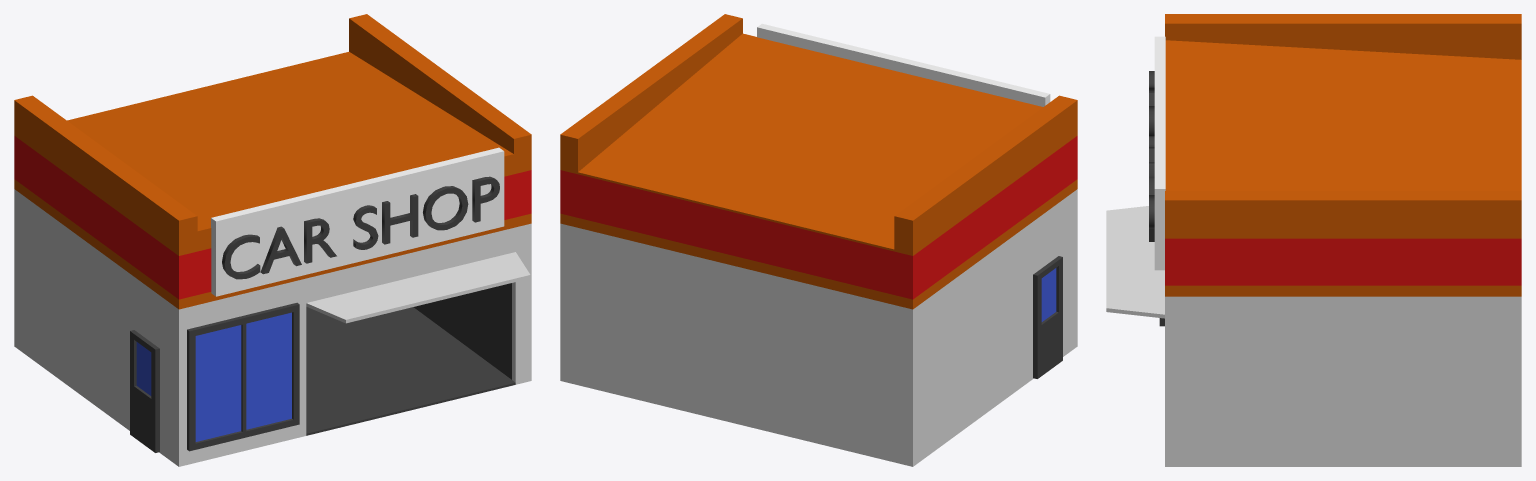
File: CarShop.fbx
3 renders of one model, left to right at view 1: azimuth 30°, elevation 25°; view 2: azimuth 150°, elevation 25°; view 3: azimuth 270°, elevation 25°, orthographic. The views are drawn at different scales.
Parts seen in each view (by area): view 1: AutoShop, Text Autoshop; view 2: AutoShop; view 3: AutoShop, Text Autoshop.
Boxes of the visible parts, x1,y1,x2,y2 form: AutoShop: (14, 14, 531, 466); Text Autoshop: (222, 176, 499, 279); AutoShop: (560, 14, 1077, 466); AutoShop: (1106, 14, 1521, 466); Text Autoshop: (1149, 71, 1154, 241).
Size of the model in its own units: 2825 by 1861 by 2629.
